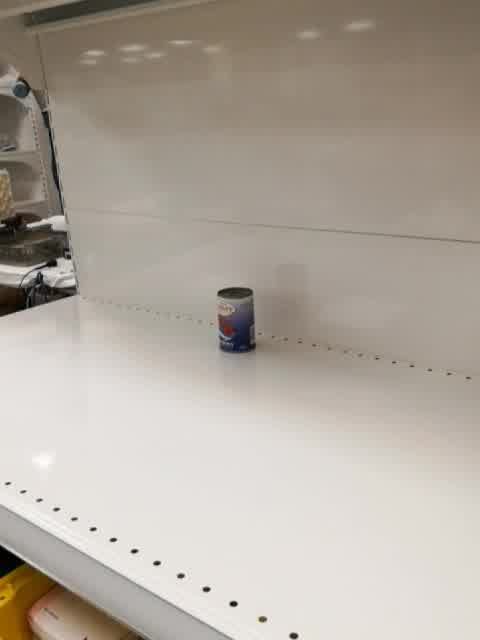sardine: (214, 286, 257, 356)
